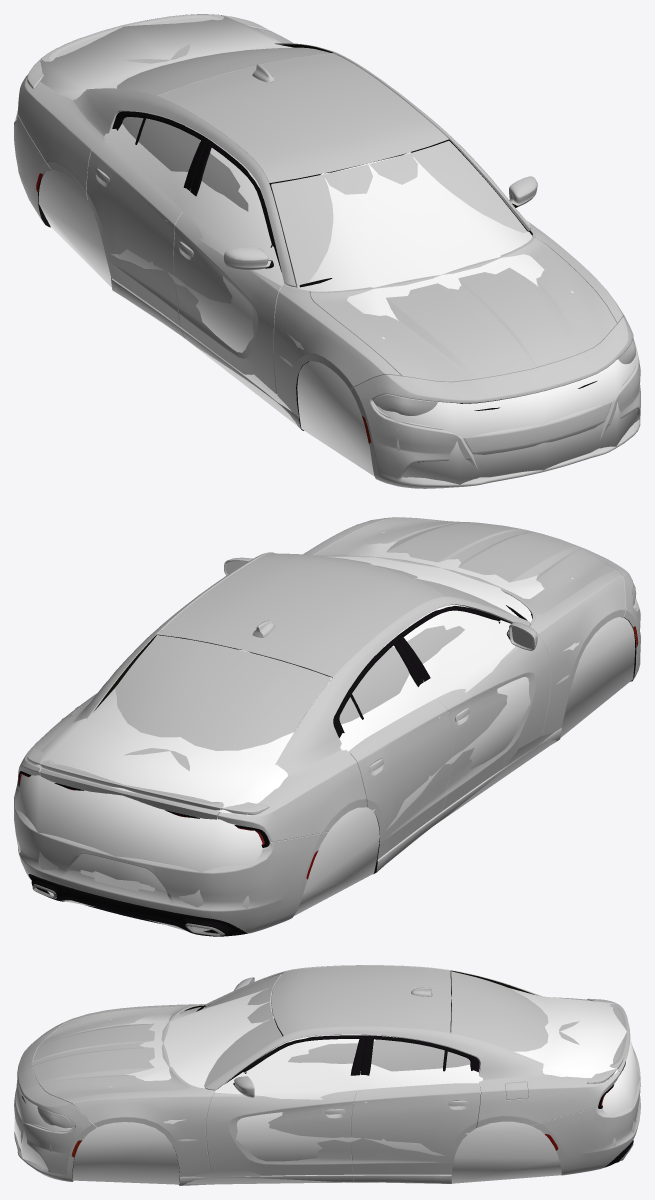
File: RMCarDemo.FBX
3 renders of one model, top to bottom at view 1: azimuth 30°, elevation 25°; view 2: azimuth 150°, elevation 25°; view 3: azimuth 270°, elevation 25°, orthographic. The views are drawn at different scales.
Parts seen in each view (by area): view 1: RMCarDemo_Paint_LOD0, RMCarDemo_Body_Col, RMCarDemo_Windows_LOD0, RMCarDemo_Body_LOD0, RMCarDemo_Glass_LOD0; view 2: RMCarDemo_Paint_LOD0, RMCarDemo_Body_Col, RMCarDemo_Windows_LOD0, RMCarDemo_Body_LOD0; view 3: RMCarDemo_Paint_LOD0, RMCarDemo_Body_Col, RMCarDemo_Windows_LOD0, RMCarDemo_Body_LOD0, RMCarDemo_Glass_LOD0.
Boxes of the visible parts, left/top/right/bottom form: RMCarDemo_Paint_LOD0: left=14, top=14, right=640, bottom=488; RMCarDemo_Body_Col: left=15, top=16, right=640, bottom=484; RMCarDemo_Windows_LOD0: left=117, top=47, right=527, bottom=287; RMCarDemo_Body_LOD0: left=38, top=44, right=596, bottom=462; RMCarDemo_Glass_LOD0: left=373, top=338, right=636, bottom=415; RMCarDemo_Paint_LOD0: left=14, top=517, right=640, bottom=933; RMCarDemo_Body_Col: left=15, top=532, right=637, bottom=931; RMCarDemo_Windows_LOD0: left=115, top=555, right=512, bottom=750; RMCarDemo_Body_LOD0: left=28, top=561, right=636, bottom=936; RMCarDemo_Paint_LOD0: left=14, top=965, right=640, bottom=1185; RMCarDemo_Body_Col: left=14, top=971, right=640, bottom=1184; RMCarDemo_Windows_LOD0: left=204, top=971, right=548, bottom=1087; RMCarDemo_Body_LOD0: left=22, top=970, right=633, bottom=1185; RMCarDemo_Glass_LOD0: left=37, top=1106, right=74, bottom=1128.
Size of what is drawn, in the model's own units: 2121 by 5068 by 1375.
